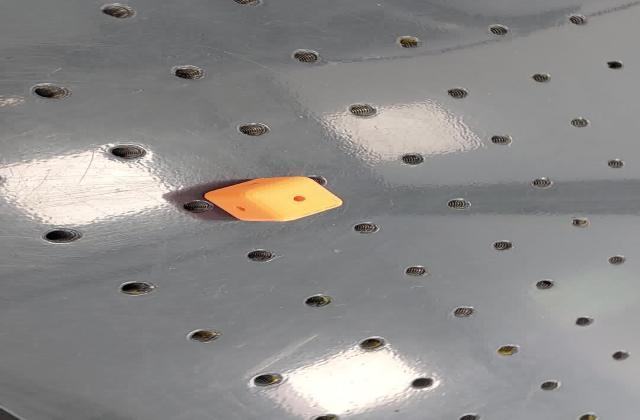cube: (203, 174, 347, 224)
